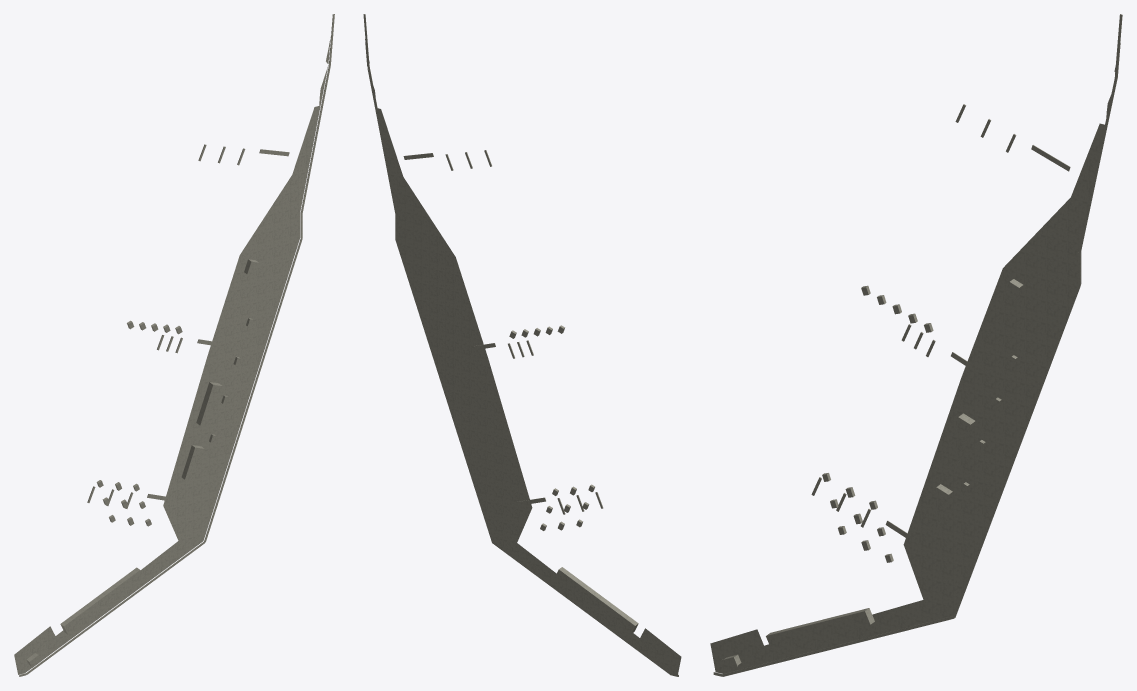
The model's file is gaogongdao_styled_concrete.obj.
3 renders of one model, left to right at view 1: azimuth 30°, elevation 25°; view 2: azimuth 150°, elevation 25°; view 3: azimuth 330°, elevation 25°, orthographic. The views are drawn at different scales.
Parts seen in each view (by area): view 1: harbor; view 2: harbor; view 3: harbor.
Part boxes in pixels (left/top/right/bottom): harbor: left=14, top=14, right=334, bottom=676; harbor: left=363, top=14, right=681, bottom=676; harbor: left=710, top=14, right=1122, bottom=676.
Bounding box in the file's own units: 158 × 278 × 5.72.
Materials: 1 (1 with a texture image).
